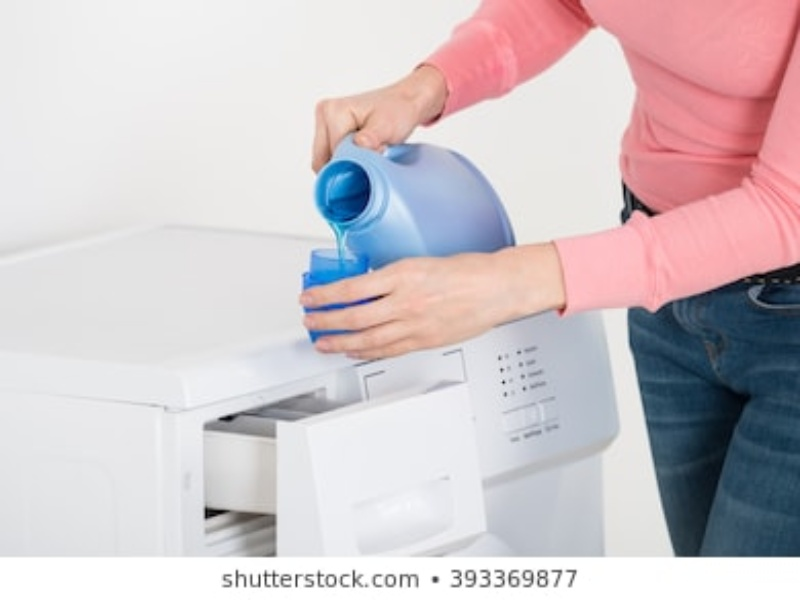detergent-bottle: (315, 130, 531, 267)
